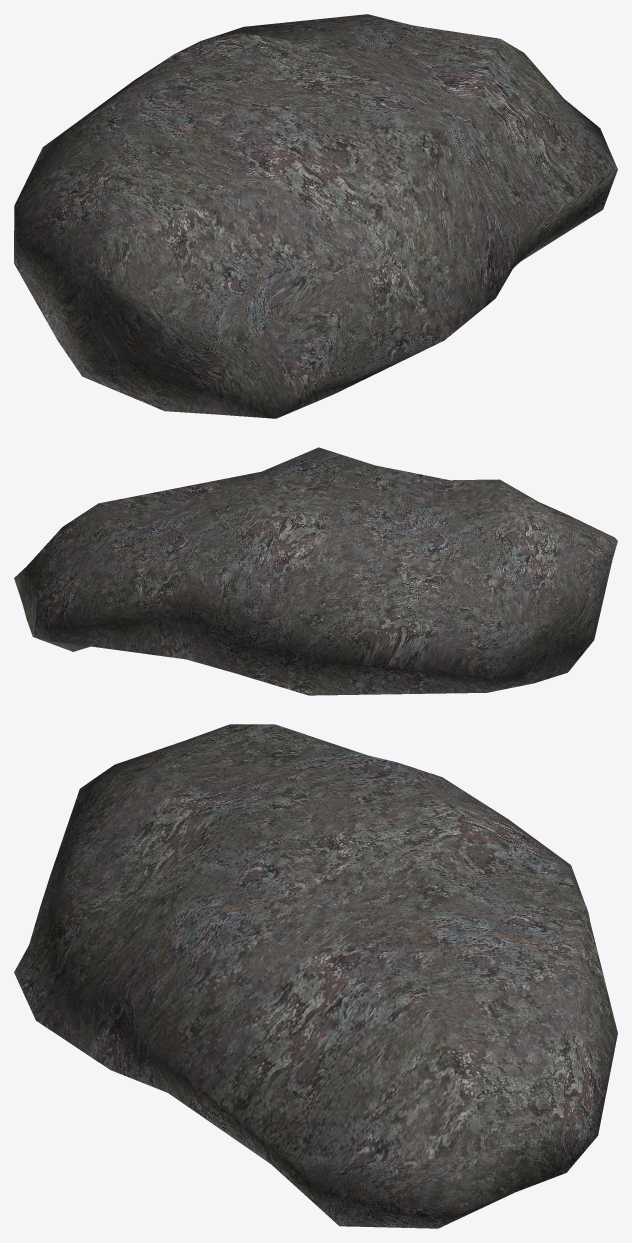
Rendered from rock_forestriverrock_lg_l1.fbx.
The picture shows the model from 3 angles, top to bottom: view 1: azimuth 30°, elevation 25°; view 2: azimuth 150°, elevation 25°; view 3: azimuth 270°, elevation 25°; orthographic projection. The views are drawn at different scales.
Parts seen in each view (by area): view 1: mesh_node; view 2: mesh_node; view 3: mesh_node.
Boxes of the visible parts, x1,y1,x2,y2 form: mesh_node: (14, 14, 617, 418); mesh_node: (14, 447, 617, 695); mesh_node: (14, 724, 617, 1228).
Bounding box in the file's own units: 3.5 × 1.18 × 2.61.
1 material, 1 textured.
